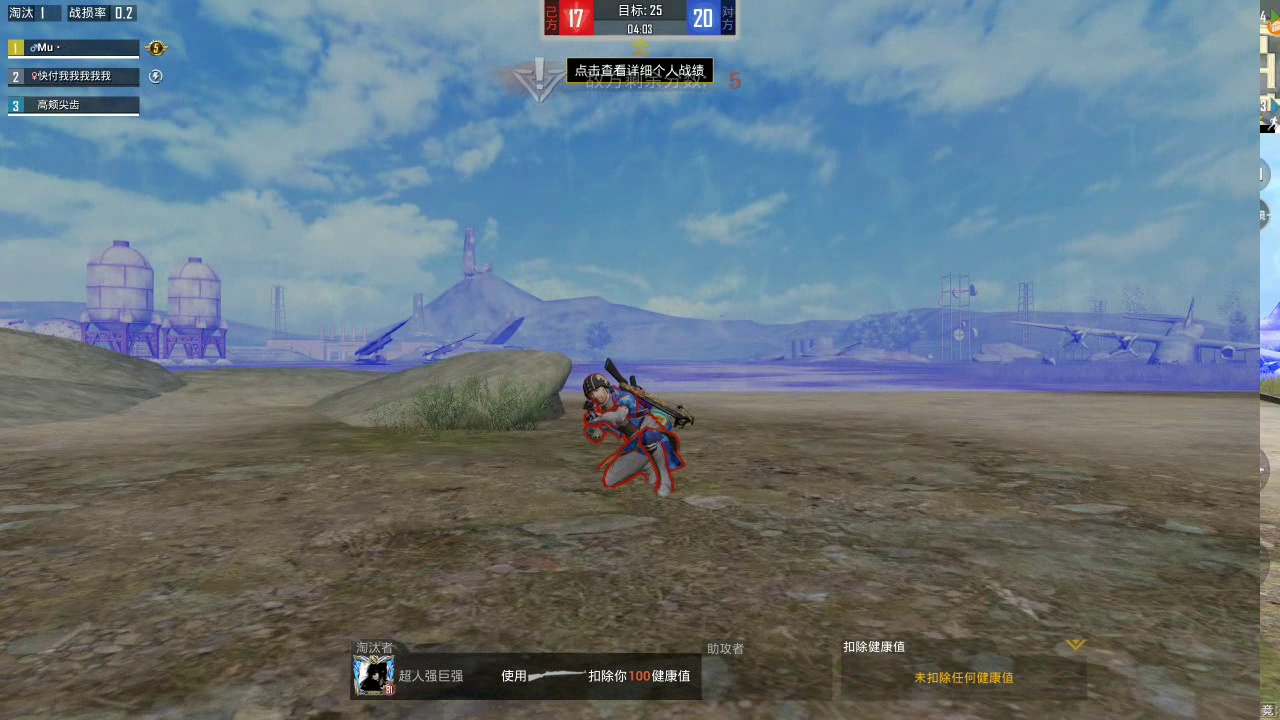enemy: (580, 372, 693, 497)
